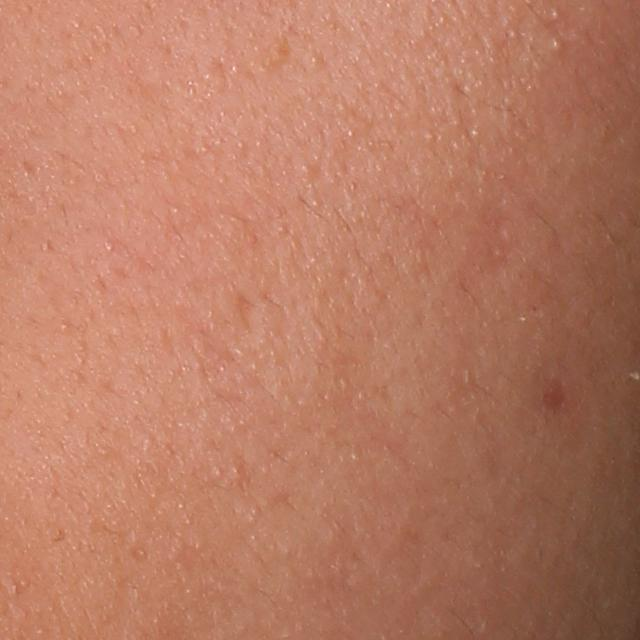atrophic_scar: (234, 290, 259, 341)
comedo: (545, 32, 568, 55)
